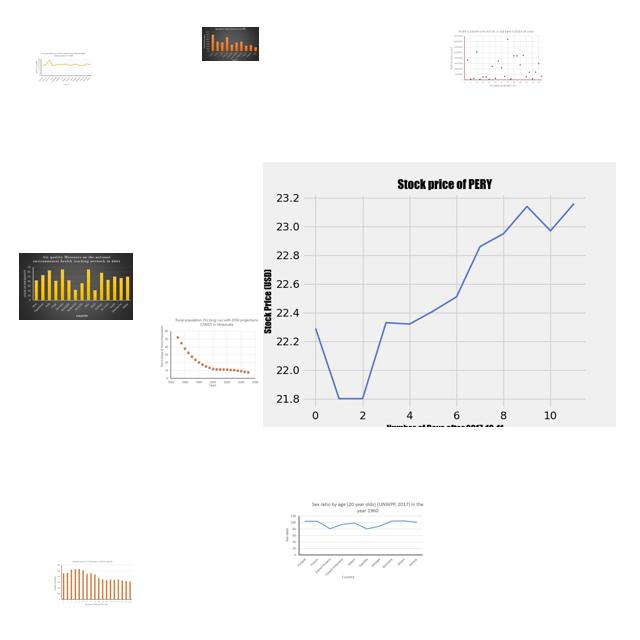Graph: (263, 162, 616, 427), (283, 501, 426, 580), (19, 253, 133, 320), (158, 316, 262, 389), (449, 29, 545, 88), (52, 559, 134, 608), (34, 51, 93, 86), (202, 27, 259, 61)
